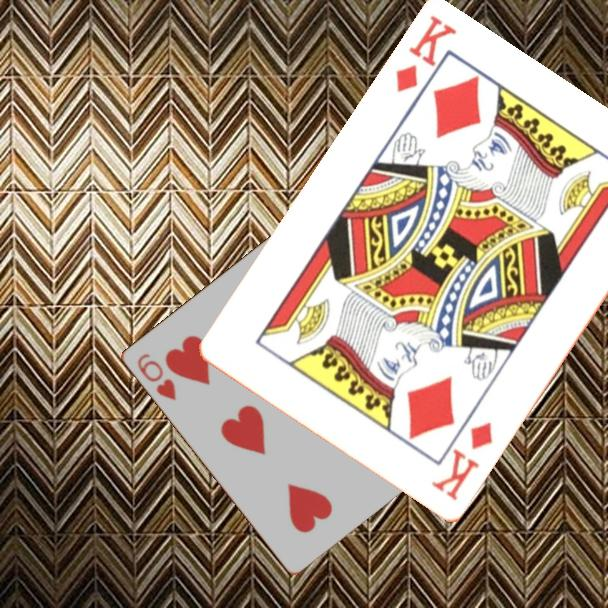d13: (428, 419, 496, 504), (392, 12, 460, 97)
h06: (133, 350, 179, 403)
